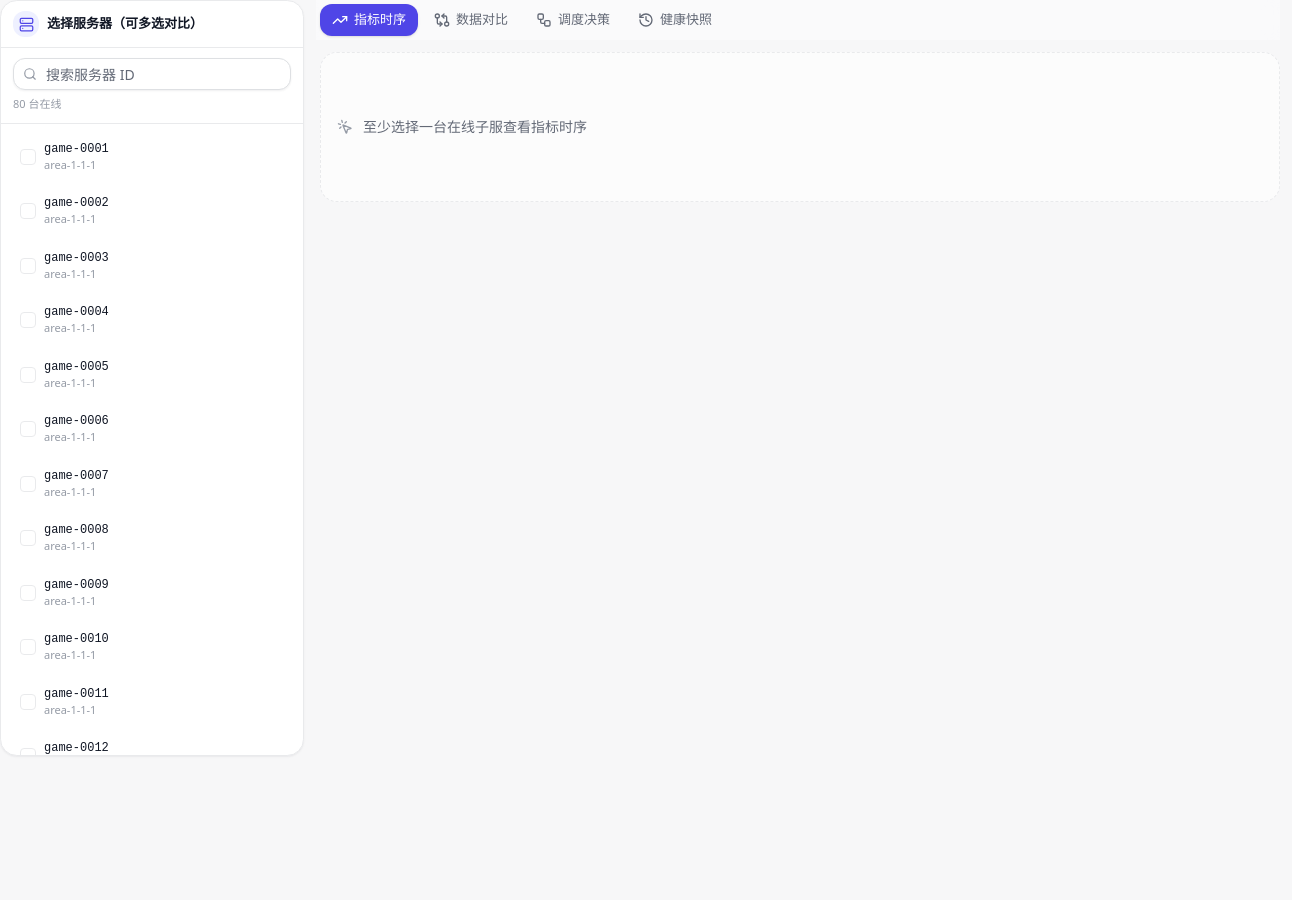
Test case: /service-analysis 服务分析页 › huge 场景首屏限制渲染但可搜索并选择第 201 台服务器，数据对比不会误判缺失
The image size is (1292, 900).
expect the text "选择服务器（可多选对比）" is shown: met, box left=47, top=14, right=203, bottom=32
expect the checkbox labelled "game-0201" is not shown: met
In the field labelled "搜索服务器 ID": x=152, y=74 left=13, top=58, right=291, bottom=90, type "game-0201"
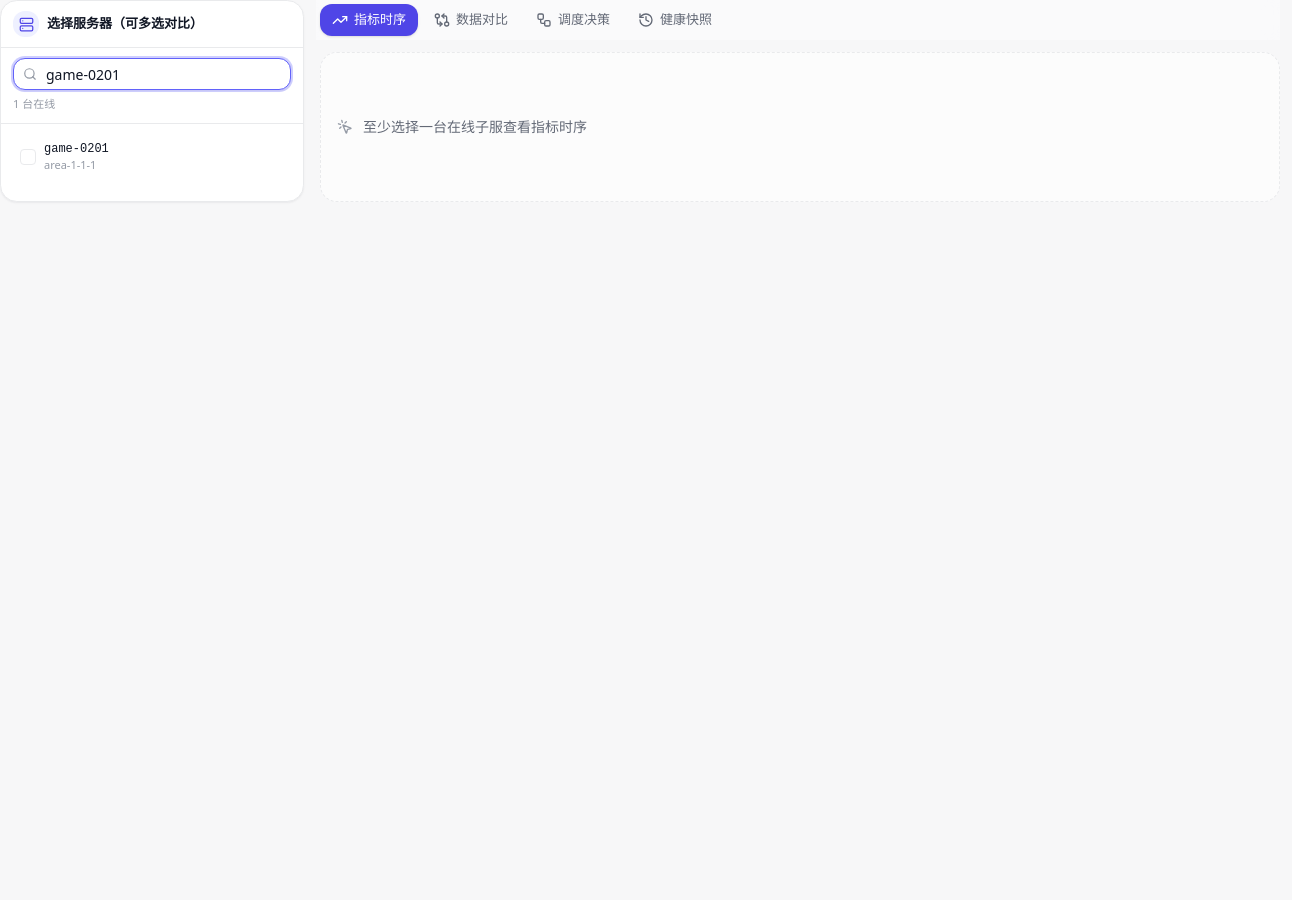
Click the checkbox labelled "game-0201": x=76, y=148 left=9, top=132, right=295, bottom=182
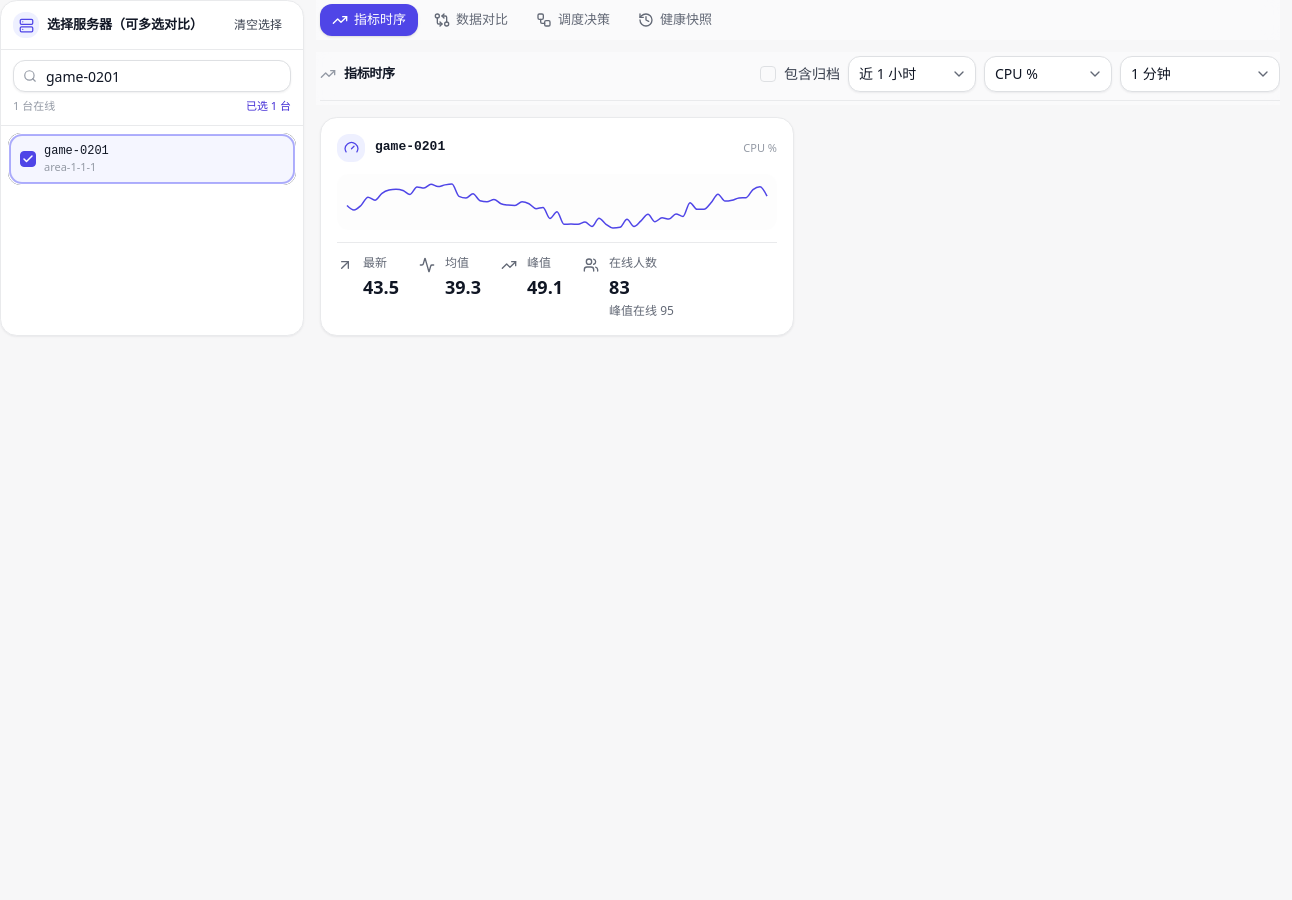
Replace the text in the field named "搜索服务器 ID" with "game-0202": x=152, y=76 left=13, top=60, right=291, bottom=92
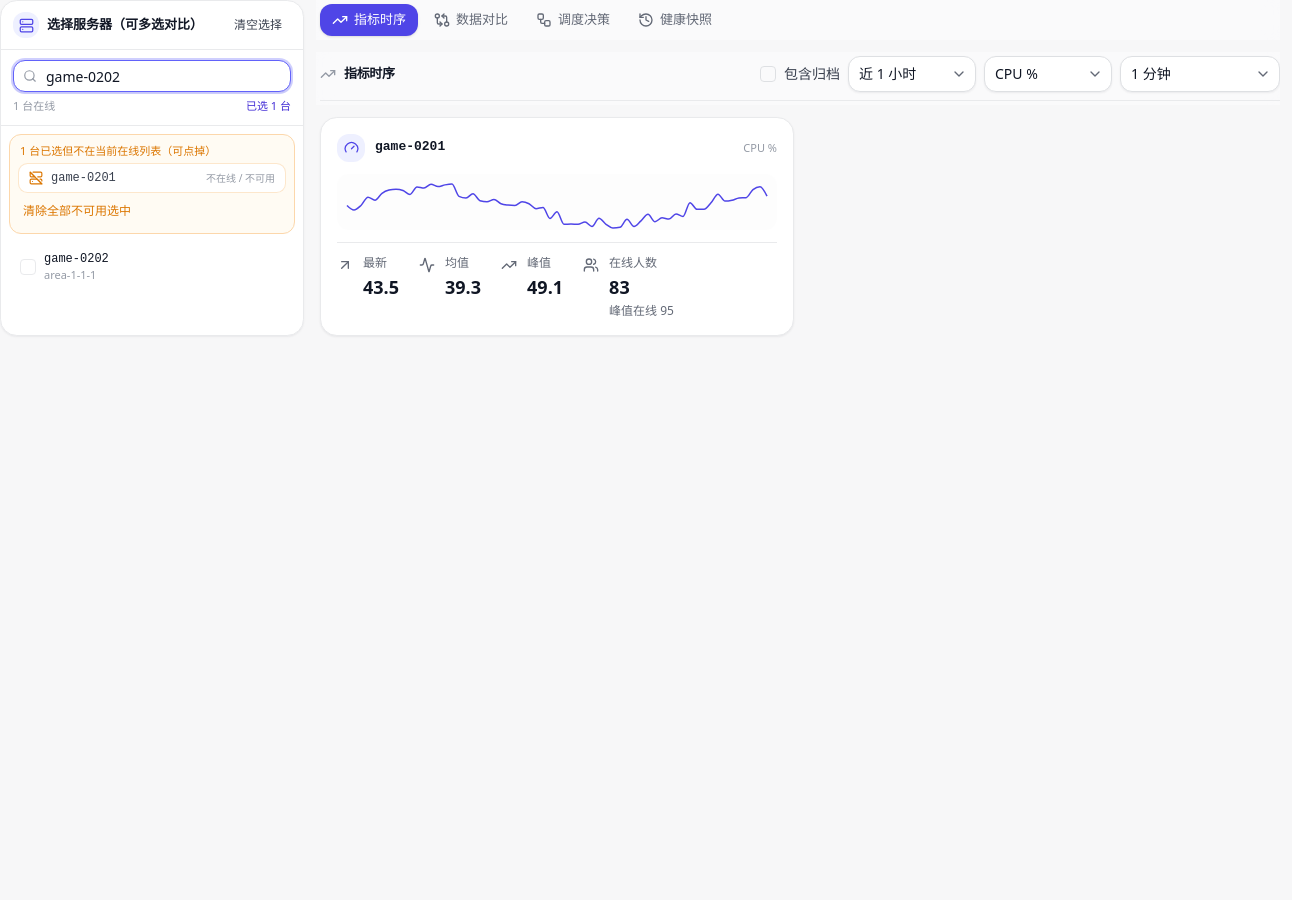
Click the checkbox labelled "game-0202": x=76, y=259 left=9, top=242, right=295, bottom=292
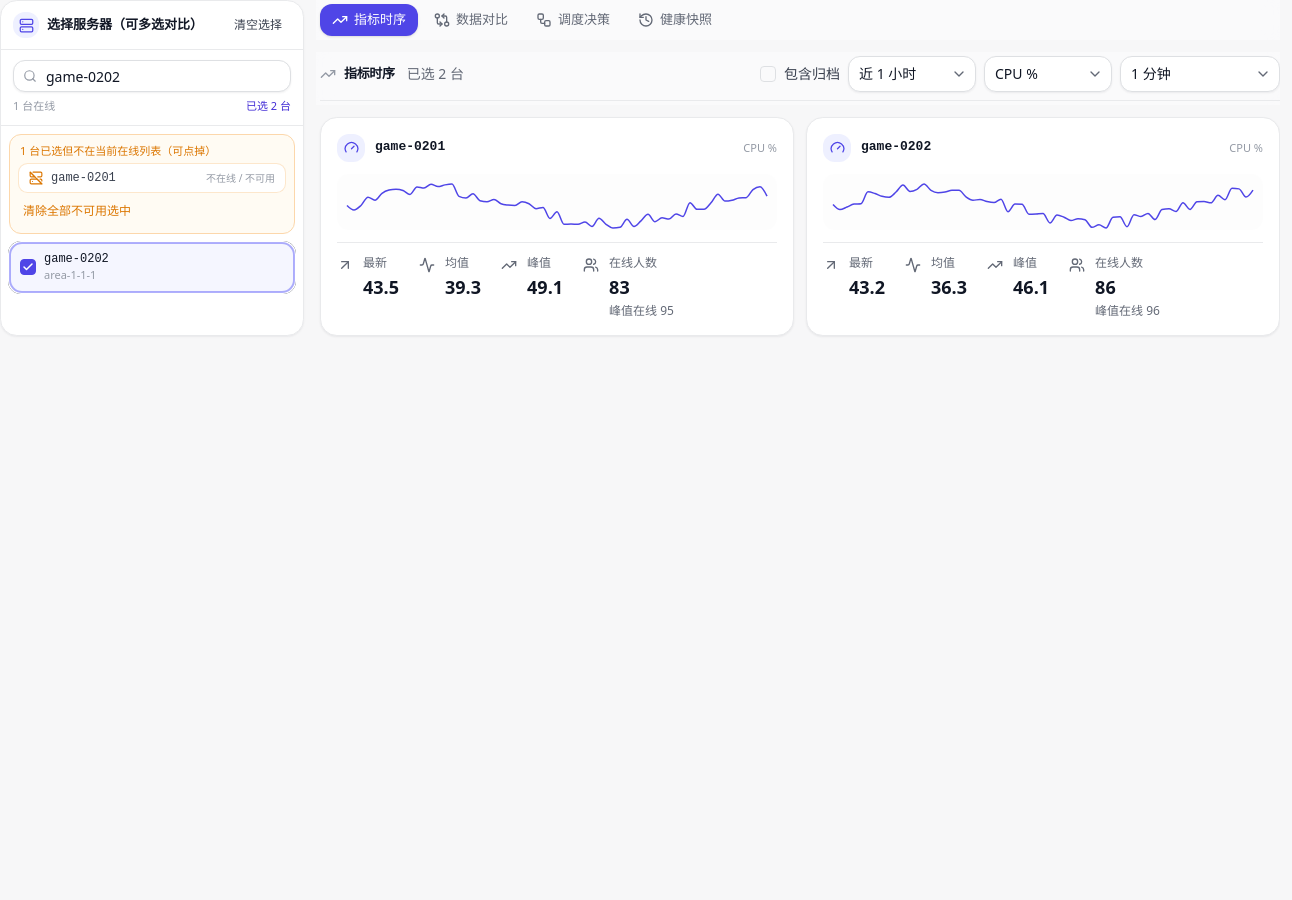
expect the text "已选 2 台" in the row of "1 台在线" is shown: met, box left=246, top=98, right=291, bottom=113
Click the tab "数据对比": x=471, y=20 left=422, top=4, right=520, bottom=36
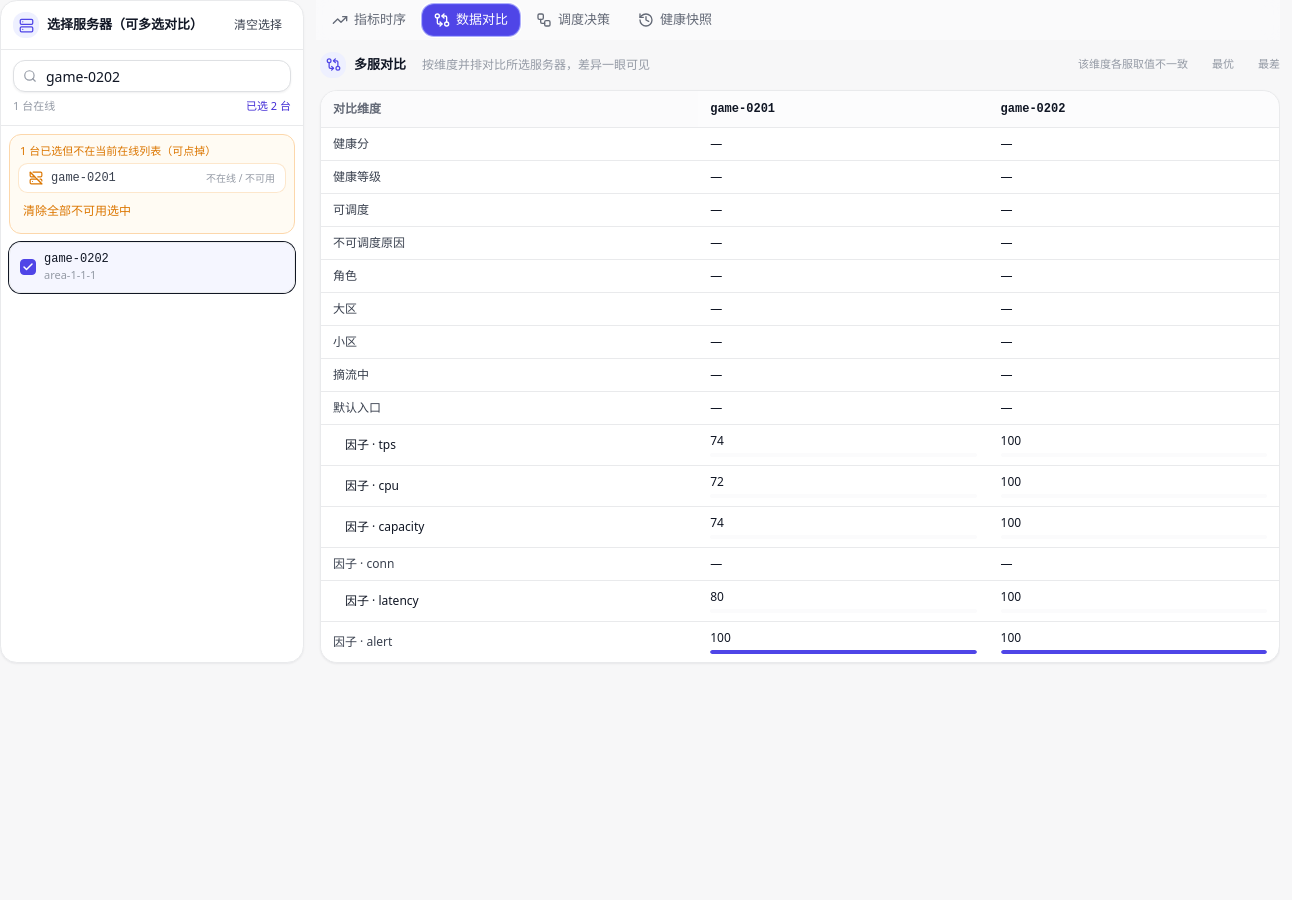
expect the column heading "game-0201" is shown: met, box left=698, top=90, right=989, bottom=127
expect the column heading "对比维度" is shown: met, box left=321, top=90, right=698, bottom=127
